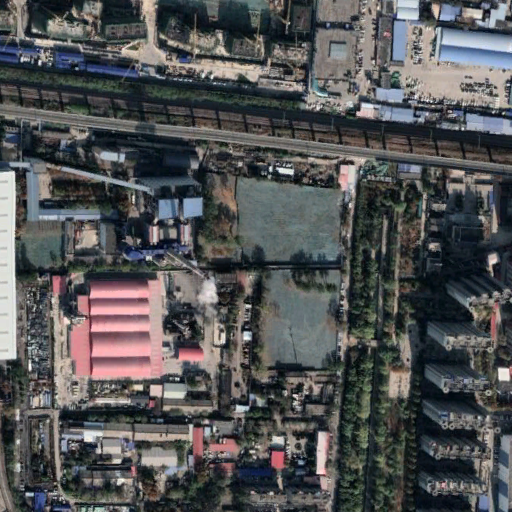cw: (235, 177, 341, 370)
